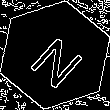N_NE: (22, 23, 88, 87)
